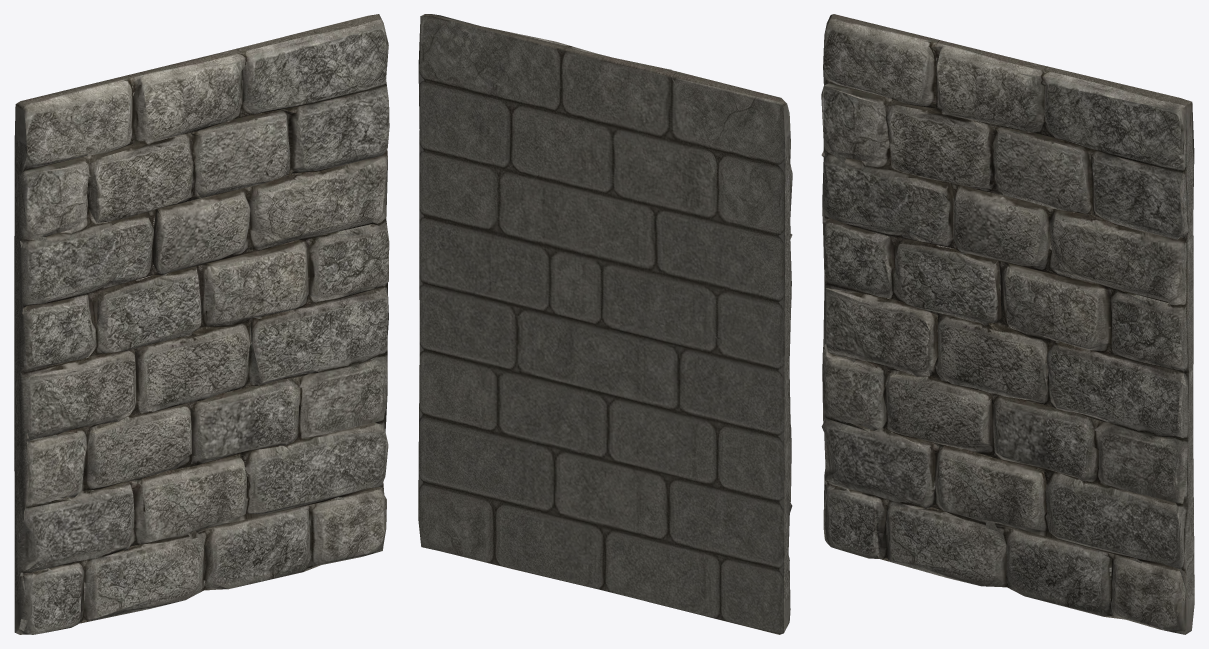
Rendered from blk_fortress_wall.glb.
The picture shows the model from 3 angles, left to right: view 1: azimuth 30°, elevation 25°; view 2: azimuth 150°, elevation 25°; view 3: azimuth 330°, elevation 25°; orthographic projection.
Parts seen in each view (by area): view 1: Mesh0; view 2: Mesh0; view 3: Mesh0.
Boxes of the visible parts, x1,y1,x2,y2 form: Mesh0: [14, 14, 389, 634]; Mesh0: [418, 14, 792, 634]; Mesh0: [821, 14, 1194, 634].
Size of the model in its own units: 1.37 by 1.9 by 0.0796.
Materials: 1 (1 with a texture image).
